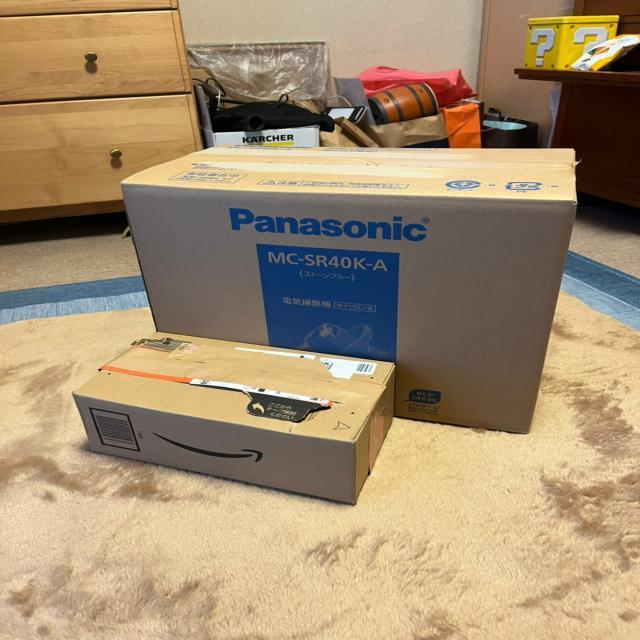box: (112, 136, 583, 437), (66, 326, 410, 512)
